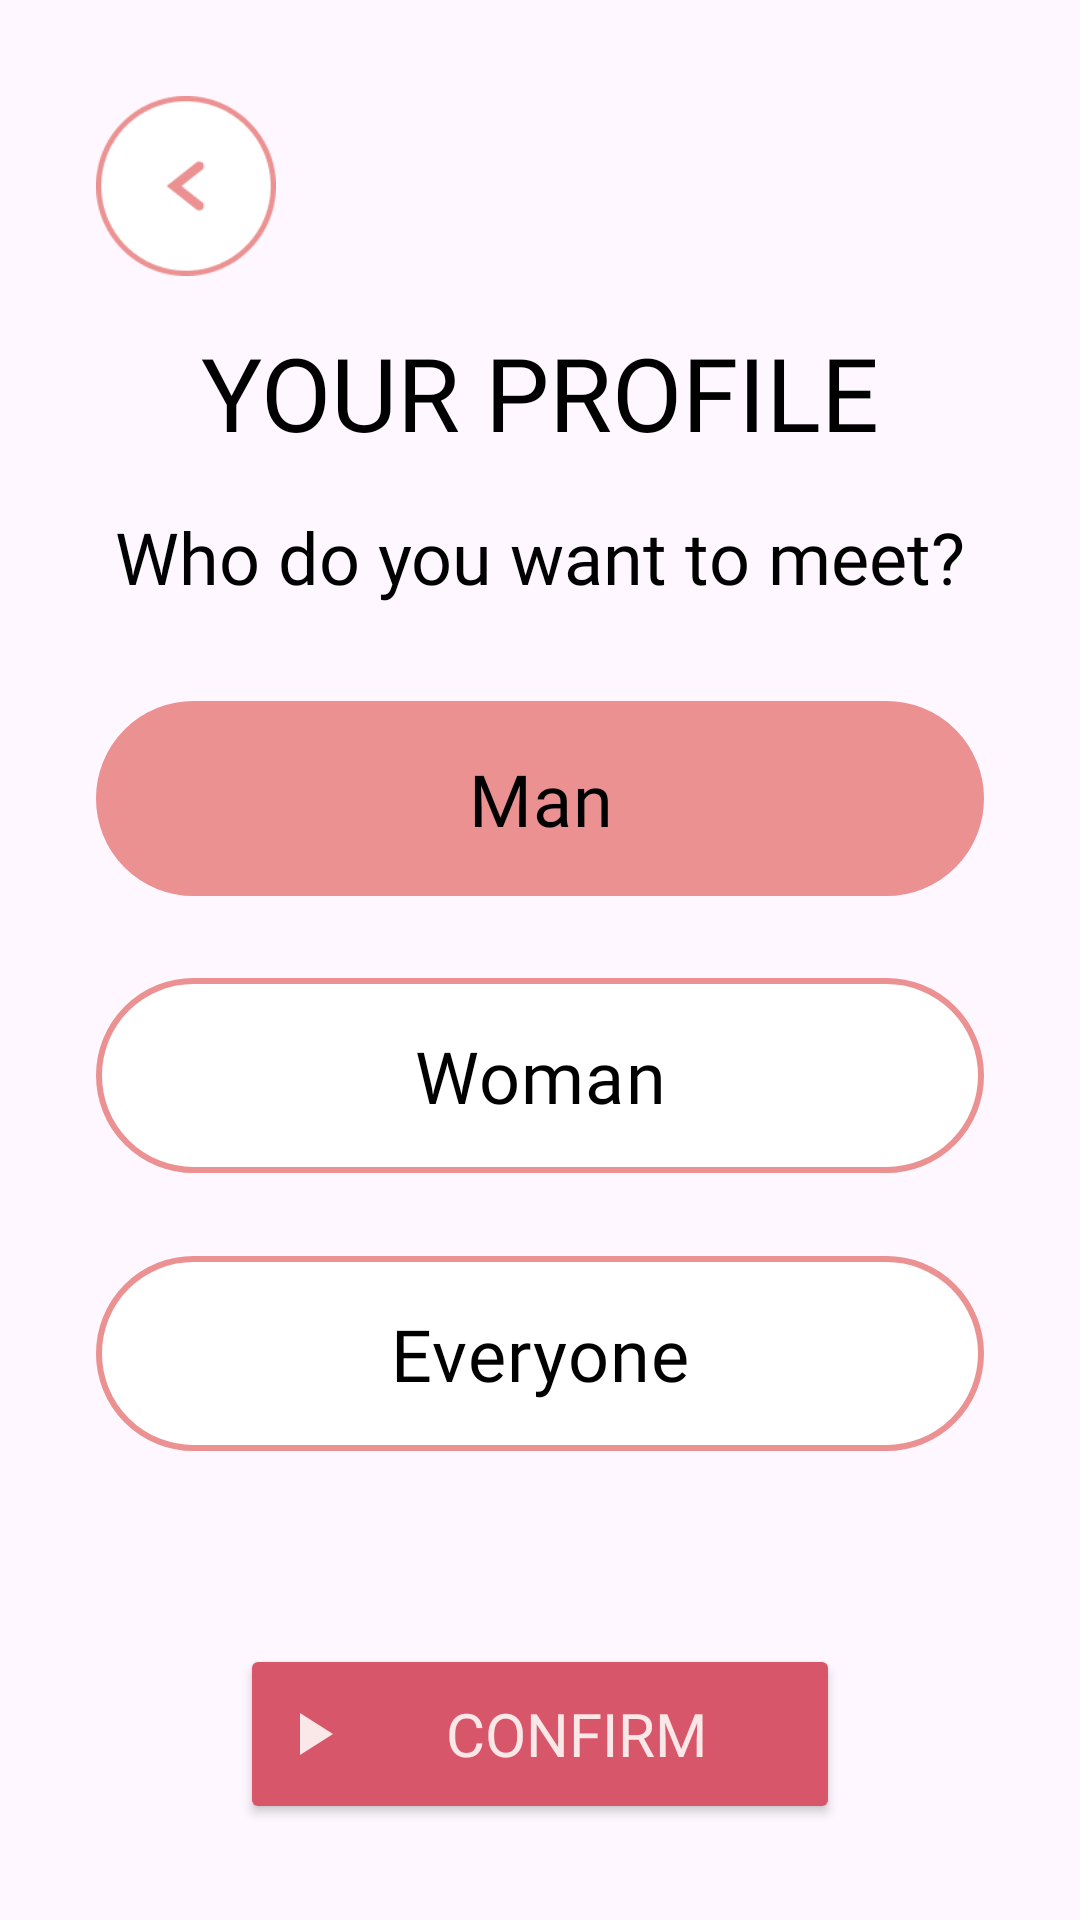

Icon bounding boxes for this 1080px×1920px phone screenshot, format (x1, y1, x2, y2):
back: (96, 96, 276, 276)
